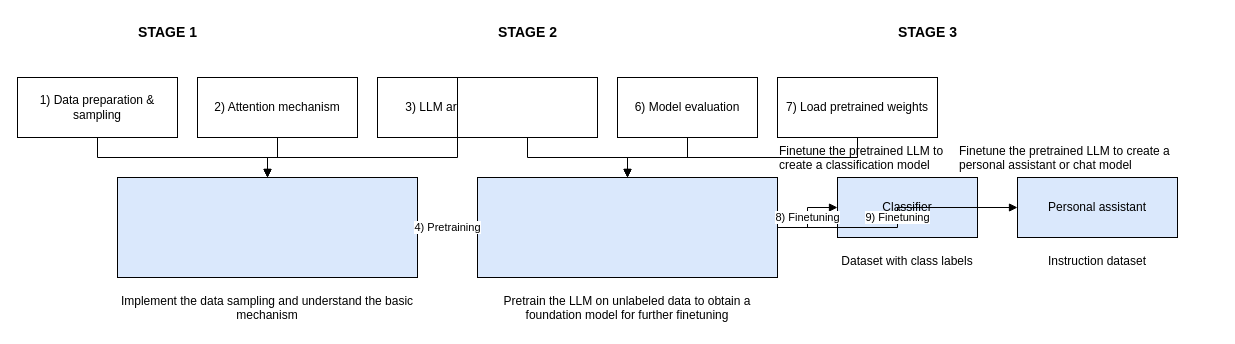
The diagram is 1235 pixels wide and 344 high, and some of its shapes have lost their labels. Each missing label, with the centre of its shape:
5) Training loop: (x=527, y=107)
Building an LLM: (x=267, y=227)
Foundation model: (x=627, y=227)
